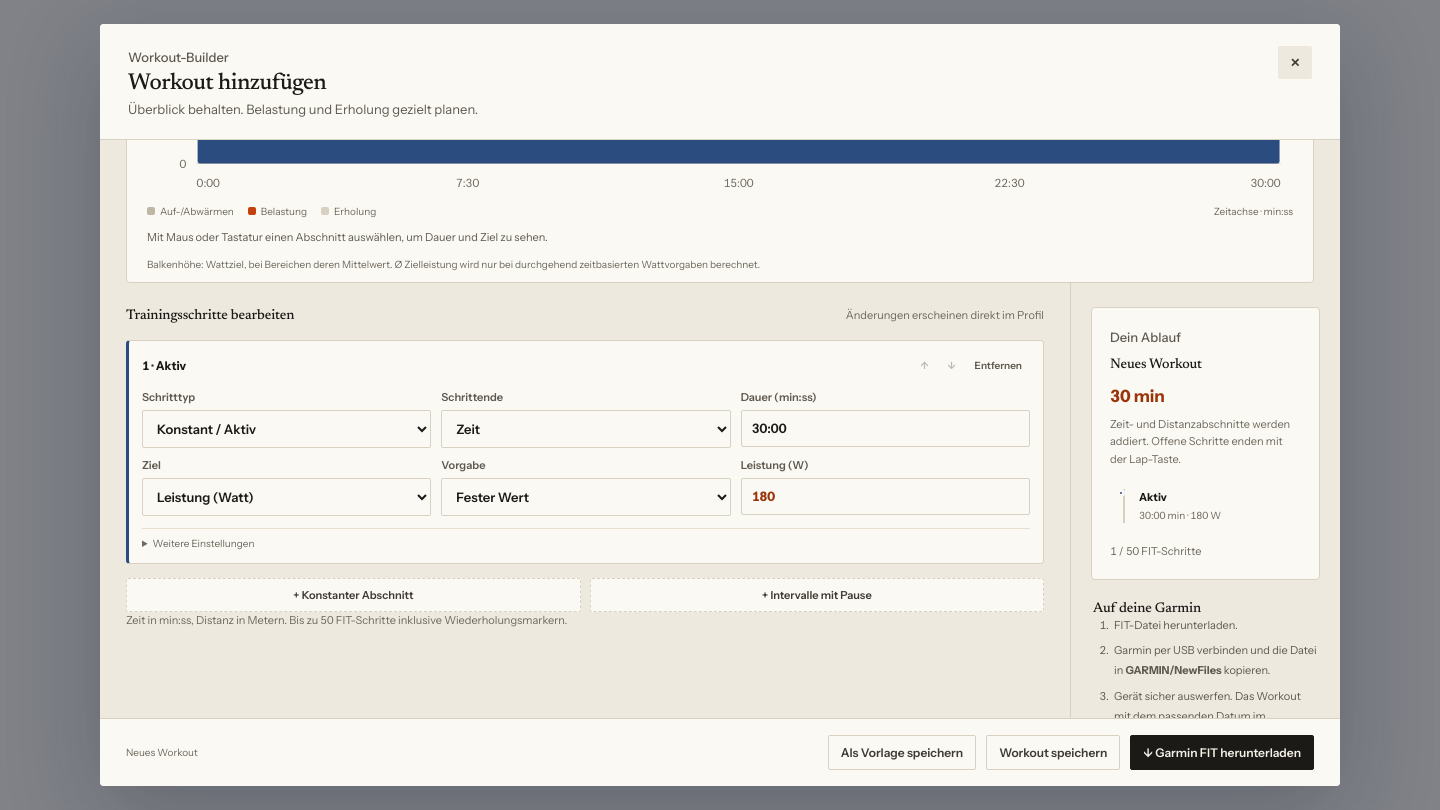
Test: selecting intervals creates a complete block and new intervals have a distinct recovery target
This screenshot has width=1440, height=810.
(page scrolled)
Select "Intervalle mit Pause" in the dropdown labelled "Schritttyp": (287, 429) [142,410,431,448]
(page scrolled)
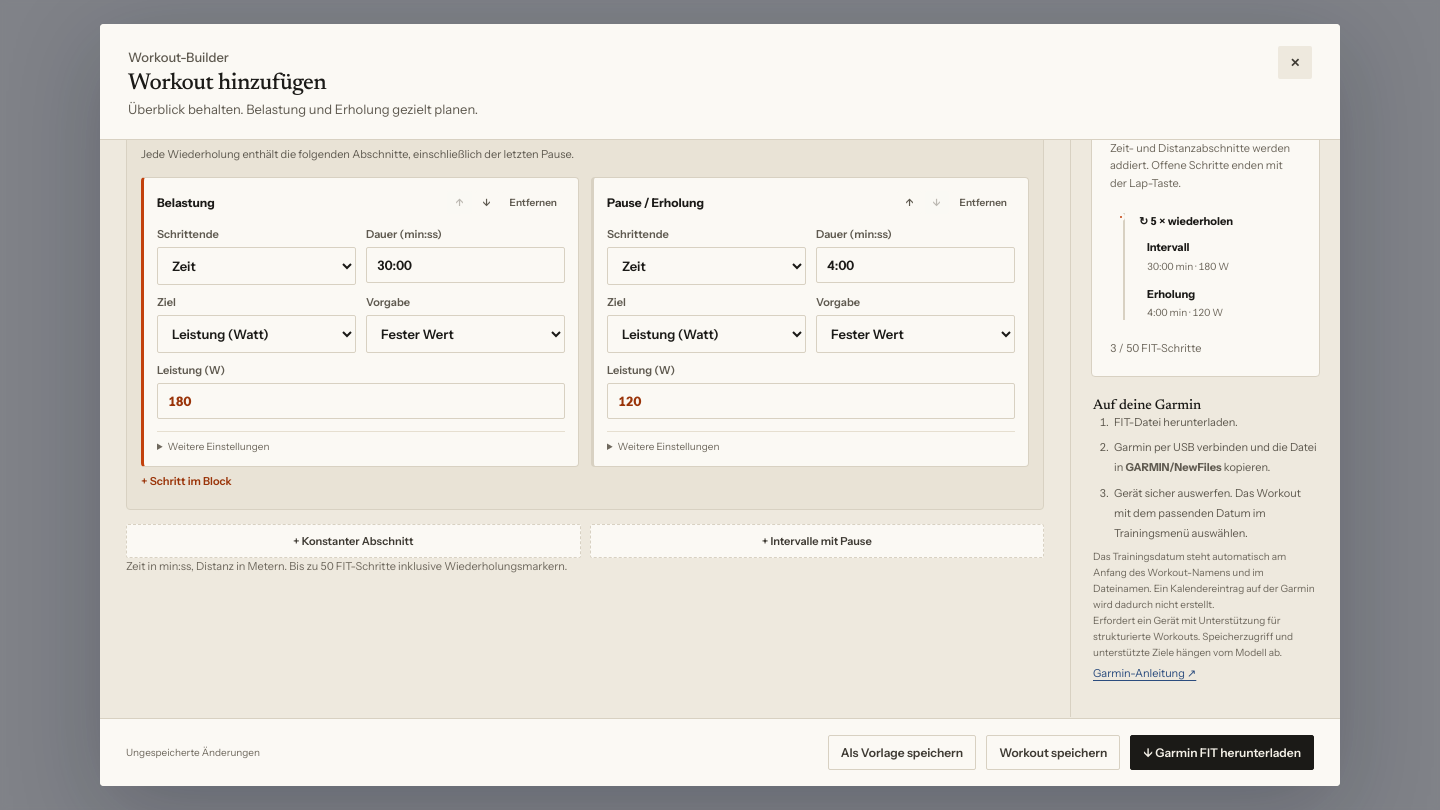
Expected: the field named "Schritt 1.1: Dauer" is shown, [366,247,565,284]
Now the field named "Schritt 1.2: Dauer" holds "4:00", box [816,247,1015,284]
Now the field named "Schritt 1.2: Zielwert" holds "120", box [607,383,1015,420]
Click the button "+ Intervalle mit Pause": (817, 541) [590,524,1044,558]
(page scrolled)
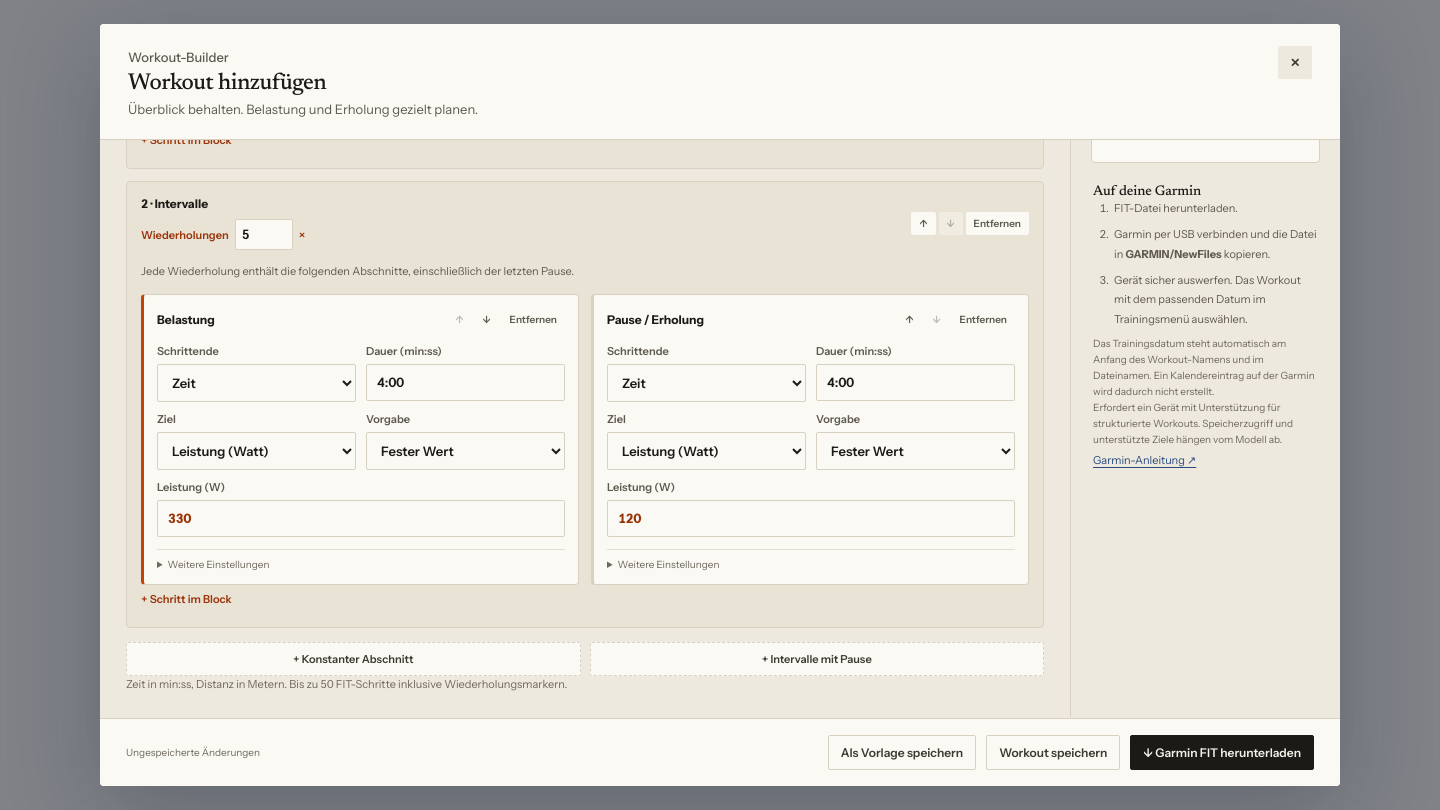
Now the field named "Schritt 2.1: Dauer" holds "4:00", box [366,364,565,401]
Now the field named "Schritt 2.1: Zielwert" holds "330", box [157,500,565,537]
Now the field named "Schritt 2.2: Zielwert" holds "120", box [607,500,1015,537]
